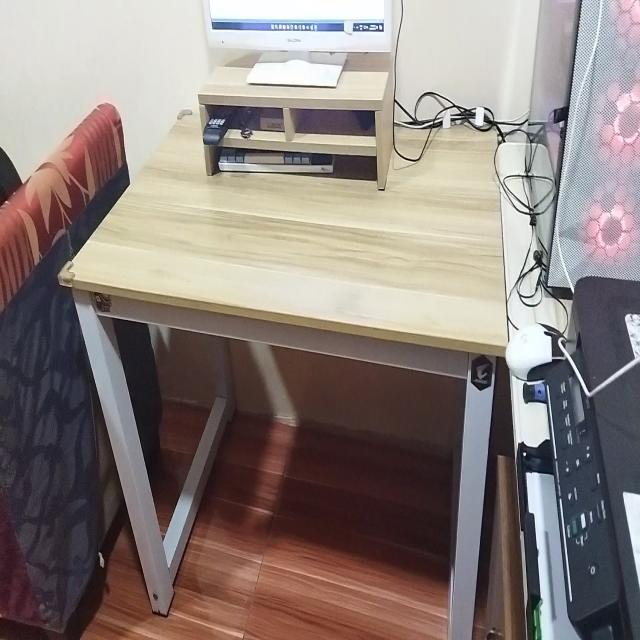table: (62, 92, 510, 640)
